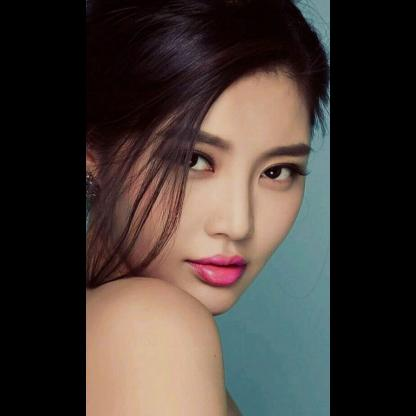Female: (84, 66, 310, 314)
